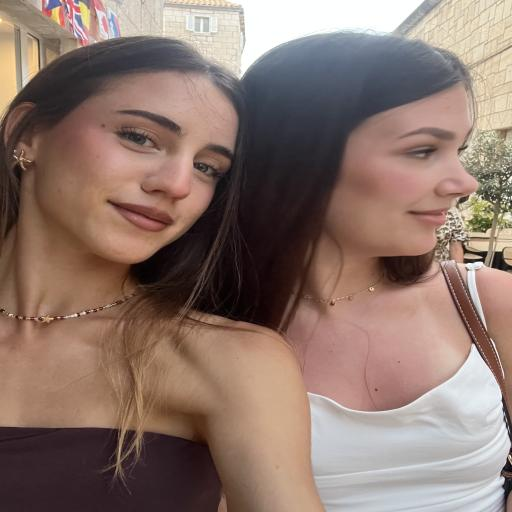masa: (61, 50, 233, 271)
